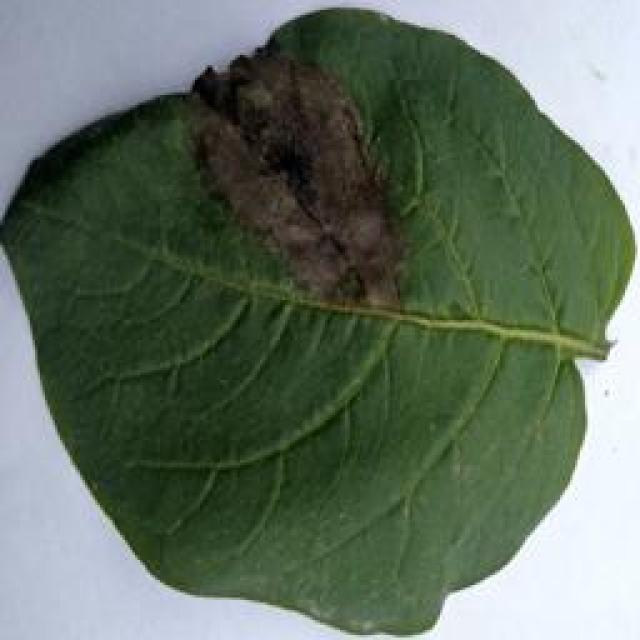Potato_Late_Blight: (5, 10, 623, 634)
